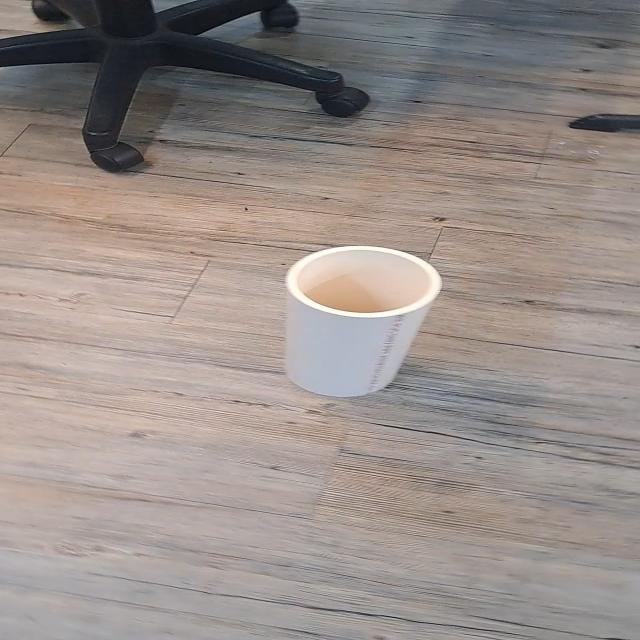CORAL: (268, 238, 462, 408)
